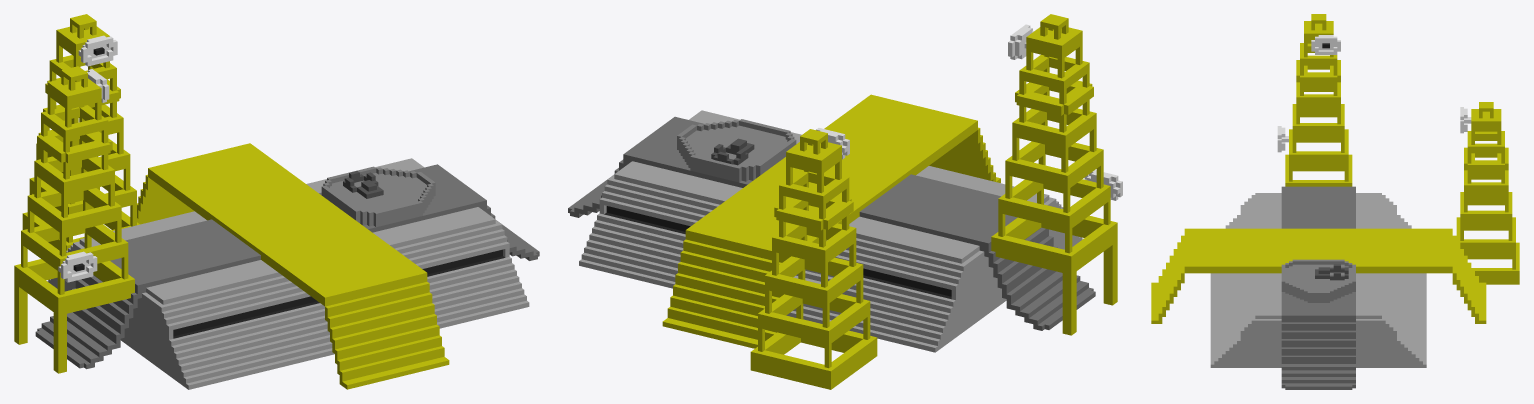
File: AdvancedComCenterBody.obj
3 renders of one model, left to right at view 1: azimuth 30°, elevation 25°; view 2: azimuth 150°, elevation 25°; view 3: azimuth 270°, elevation 25°, orthographic. The views are drawn at different scales.
Size of the model in its own units: 11.3 by 6.2 by 9.9.
Materials: 1 (1 with a texture image).
